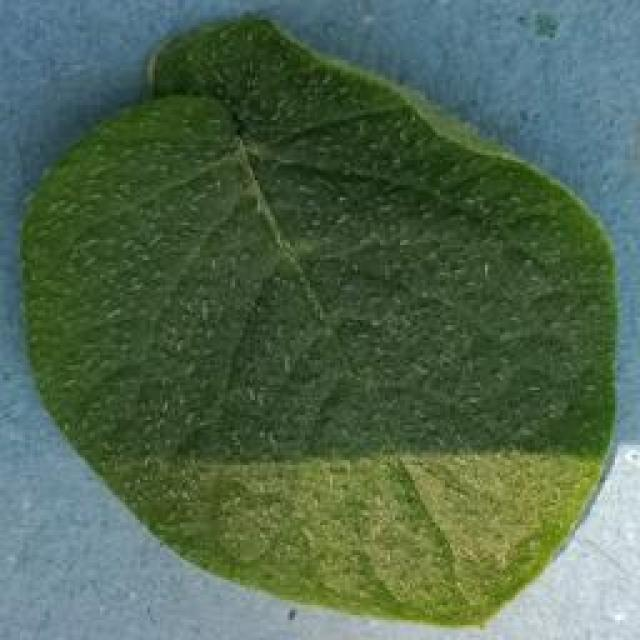Potato_Healthy: (5, 5, 636, 634)
